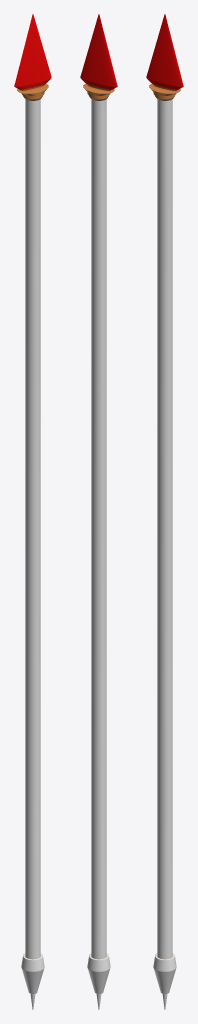
The model's file is spear.fbx.
The picture shows the model from 3 angles, left to right: view 1: azimuth 30°, elevation 25°; view 2: azimuth 150°, elevation 25°; view 3: azimuth 330°, elevation 25°; orthographic projection.
Parts seen in each view (by area): view 1: female_mecha_NEW:female_mecha_NEW:Mesh; view 2: female_mecha_NEW:female_mecha_NEW:Mesh; view 3: female_mecha_NEW:female_mecha_NEW:Mesh.
Part boxes in pixels (box(x1,y1,x2,y2)): female_mecha_NEW:female_mecha_NEW:Mesh: box(14, 14, 51, 1009); female_mecha_NEW:female_mecha_NEW:Mesh: box(80, 14, 117, 1009); female_mecha_NEW:female_mecha_NEW:Mesh: box(146, 14, 183, 1009).
Size of the model in its own units: 11.35 by 288 by 6.1.
1 material, 1 textured.
